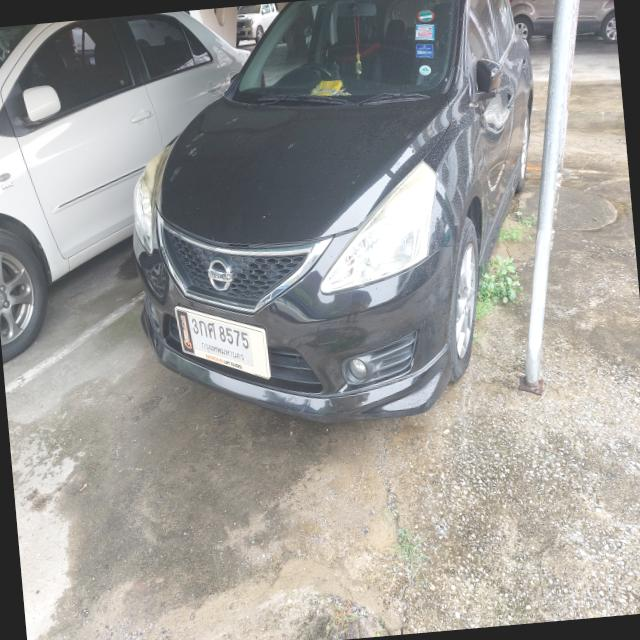license_plate: (174, 294, 273, 388)
